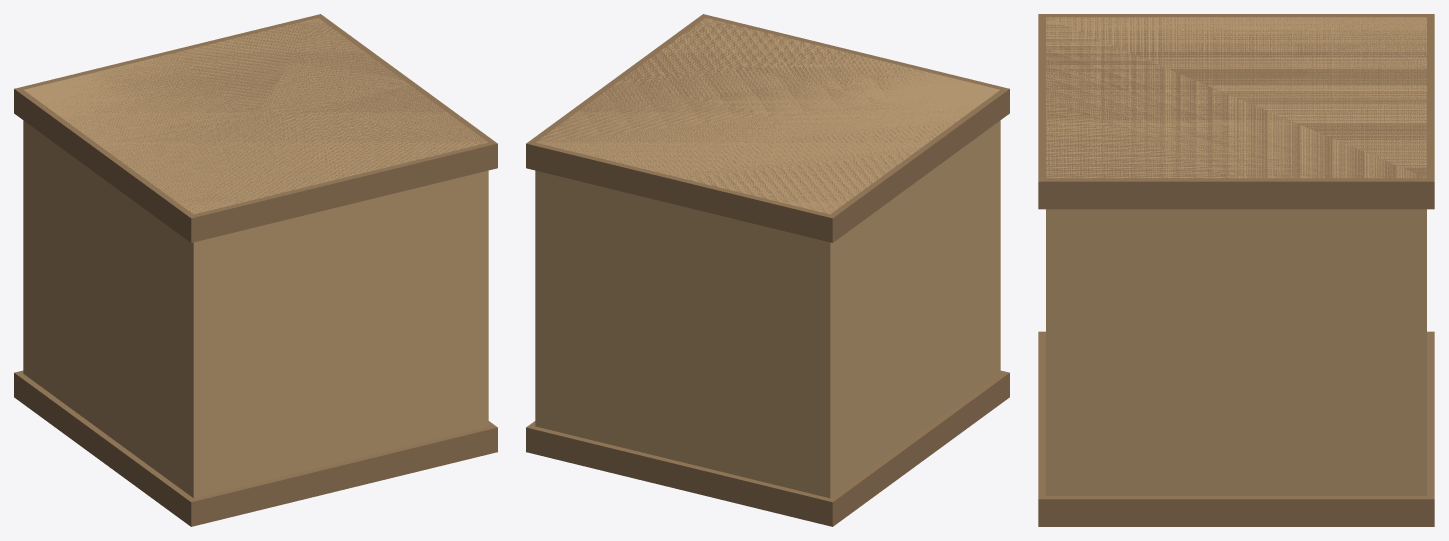
Rendered from crate.glb.
The picture shows the model from 3 angles, left to right: view 1: azimuth 30°, elevation 25°; view 2: azimuth 150°, elevation 25°; view 3: azimuth 270°, elevation 25°; orthographic projection. The views are drawn at different scales.
Parts seen in each view (by area): view 1: crate; view 2: crate; view 3: crate.
Part boxes in pixels (<box>): crate: <box>14,14,497,526</box>; crate: <box>526,14,1009,526</box>; crate: <box>1038,14,1434,526</box>.
Size of the model in its own units: 1.04 by 1 by 1.04.
